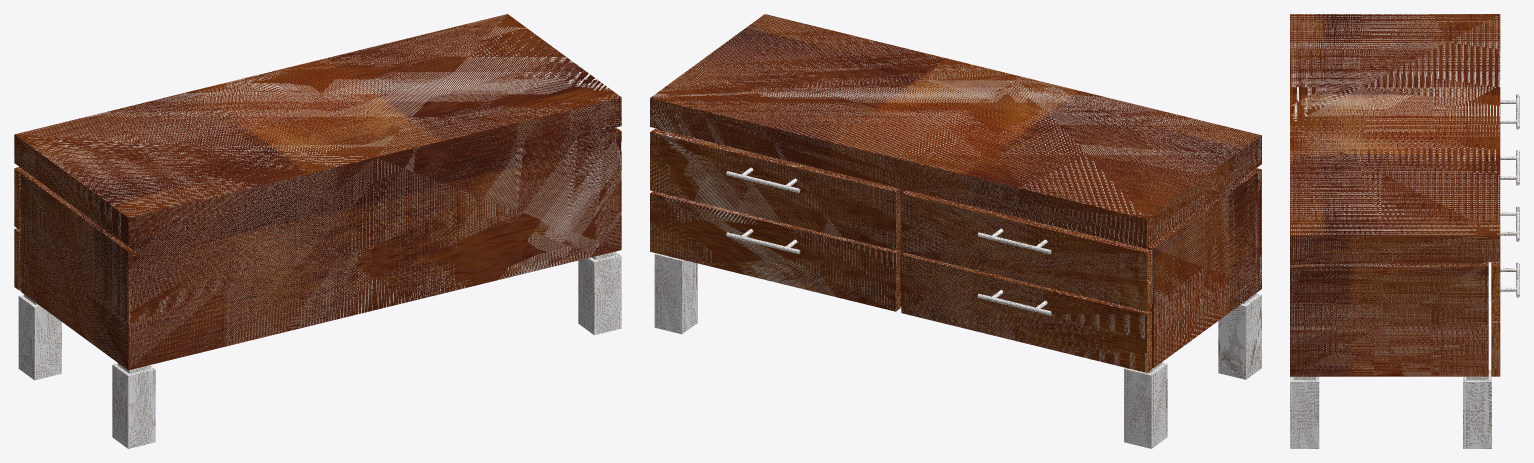
3 renders of one model, left to right at view 1: azimuth 30°, elevation 25°; view 2: azimuth 150°, elevation 25°; view 3: azimuth 270°, elevation 25°, orthographic. The views are drawn at different scales.
Visible parts, largest first — view 1: mesh1_mesh1-geometry, mesh14_mesh14-geometry, mesh2_mesh2-geometry, mesh15_mesh15-geometry, mesh13_mesh13-geometry; view 2: mesh1_mesh1-geometry, mesh14_mesh14-geometry, mesh26_mesh26-geometry, mesh13_mesh13-geometry, mesh2_mesh2-geometry, mesh15_mesh15-geometry, mesh16_mesh16-geometry, mesh3_mesh3-geometry; view 3: mesh14_mesh14-geometry, mesh1_mesh1-geometry, mesh15_mesh15-geometry, mesh26_mesh26-geometry, mesh16_mesh16-geometry, mesh3_mesh3-geometry.
Part boxes in pixels (x1,y1,x2,y2): mesh1_mesh1-geometry: [14, 74, 374, 370]; mesh14_mesh14-geometry: [261, 14, 621, 309]; mesh2_mesh2-geometry: [18, 294, 155, 448]; mesh15_mesh15-geometry: [578, 251, 621, 335]; mesh13_mesh13-geometry: [14, 167, 25, 290]; mesh1_mesh1-geometry: [898, 74, 1261, 368]; mesh14_mesh14-geometry: [650, 14, 1012, 306]; mesh26_mesh26-geometry: [650, 128, 900, 311]; mesh13_mesh13-geometry: [901, 190, 1151, 372]; mesh2_mesh2-geometry: [1124, 293, 1261, 448]; mesh15_mesh15-geometry: [654, 253, 697, 334]; mesh16_mesh16-geometry: [726, 167, 800, 253]; mesh3_mesh3-geometry: [977, 228, 1051, 315]; mesh14_mesh14-geometry: [1290, 125, 1500, 376]; mesh1_mesh1-geometry: [1290, 14, 1500, 124]; mesh15_mesh15-geometry: [1290, 369, 1491, 448]; mesh26_mesh26-geometry: [1491, 262, 1500, 376]; mesh16_mesh16-geometry: [1500, 206, 1519, 297]; mesh3_mesh3-geometry: [1500, 94, 1519, 185].
Bounding box in the file's own units: 0.8476 × 0.3796 × 0.3708.
